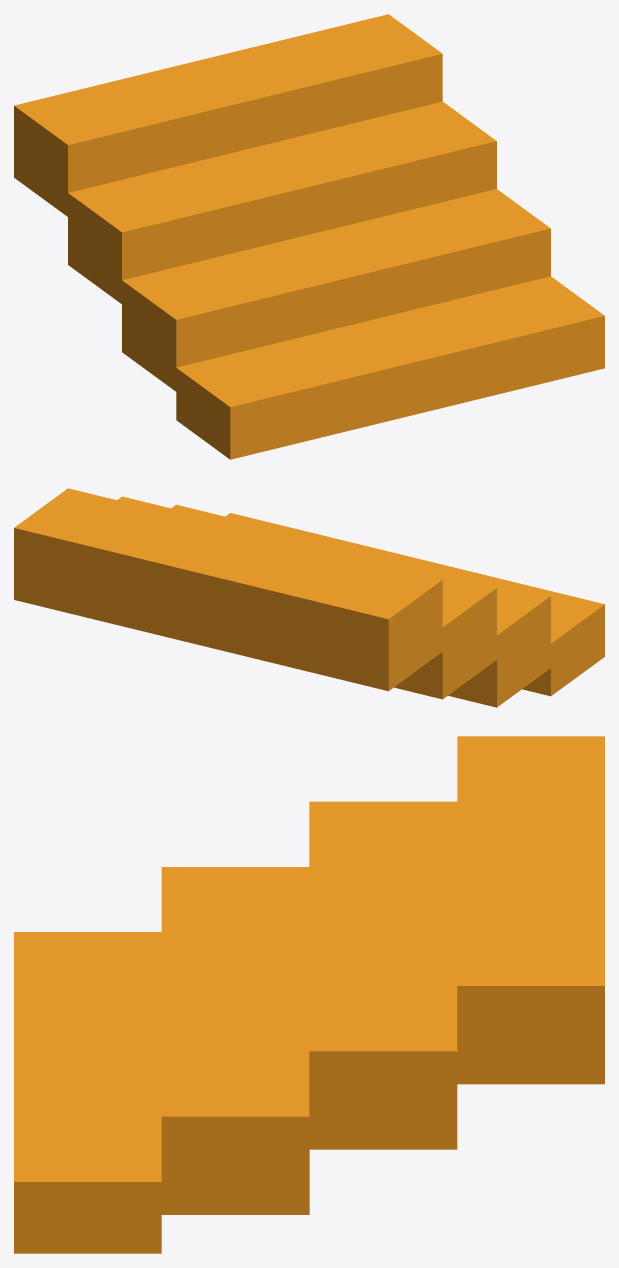
File: SM_Buildings_Stairs_1x1_02.fbx
3 views of the same model, one above another, from view 1: azimuth 30°, elevation 25°; view 2: azimuth 150°, elevation 25°; view 3: azimuth 270°, elevation 25° (orthographic). The views are drawn at different scales.
Parts seen in each view (by area): view 1: SM_Buildings_Stairs_1x1_02; view 2: SM_Buildings_Stairs_1x1_02; view 3: SM_Buildings_Stairs_1x1_02.
Part boxes in pixels (<box>): SM_Buildings_Stairs_1x1_02: <box>14,14,604,459</box>; SM_Buildings_Stairs_1x1_02: <box>14,488,604,707</box>; SM_Buildings_Stairs_1x1_02: <box>14,736,604,1253</box>.
Size of the model in its own units: 100 by 49.95 by 100.
